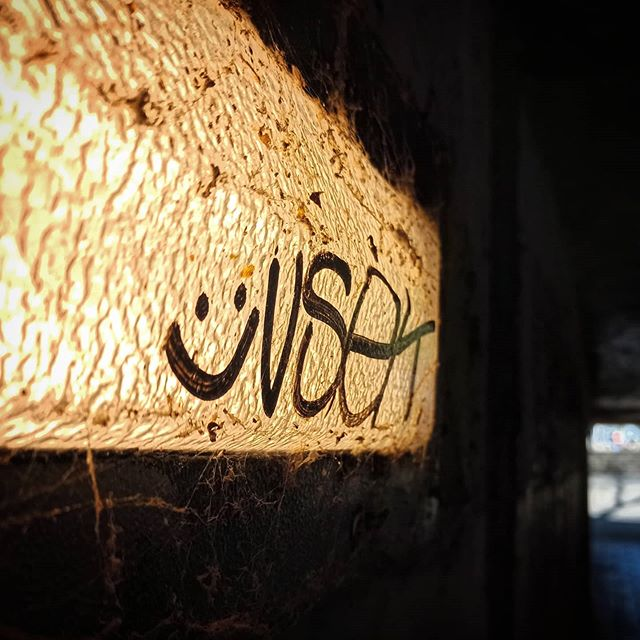graffiti: (153, 236, 458, 439)
